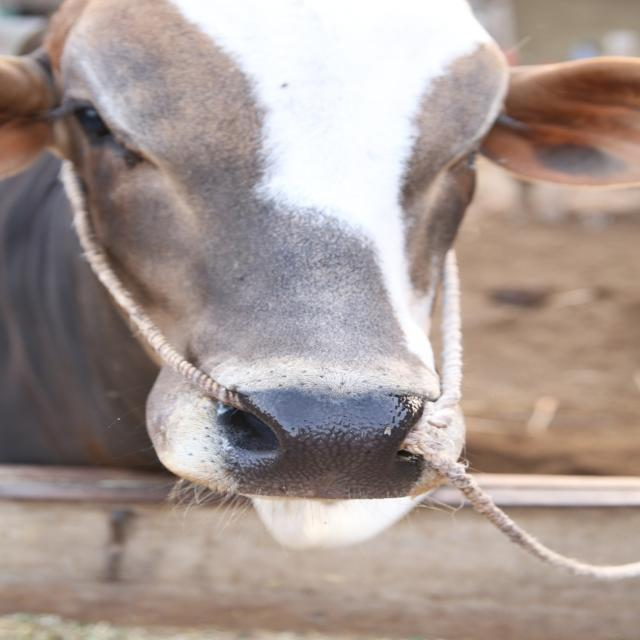muzzles: (213, 378, 452, 506)
